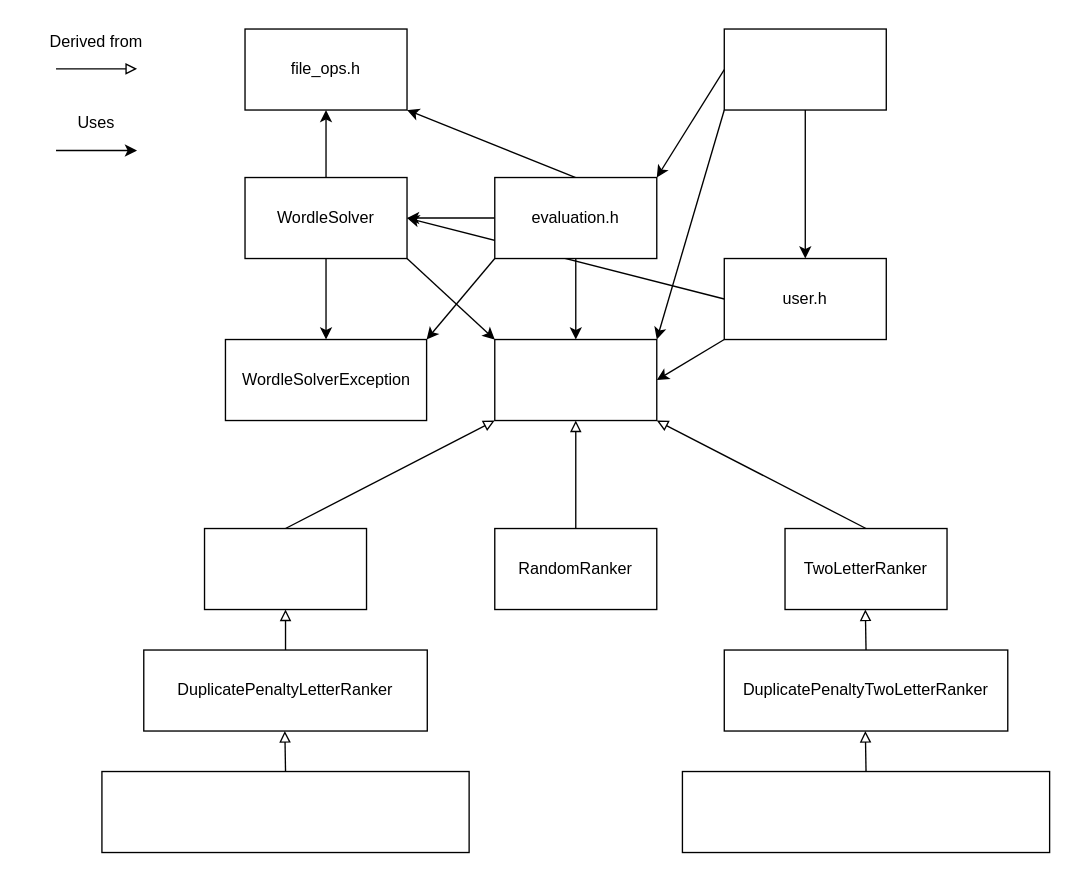
Image size: 1073x876. Some labels were removed from this diagram. The shapes that lost their labels are listed below. From the top down, each one's centre as x and y in pixels, then its label:
[804,69]: main.cpp
[575,379]: AbstractRanker
[285,568]: LetterRanker
[285,811]: RestrictedDuplicatePenaltyLetterRanker
[865,811]: RestrictedDuplicatePenaltyTwoLetterRanker
